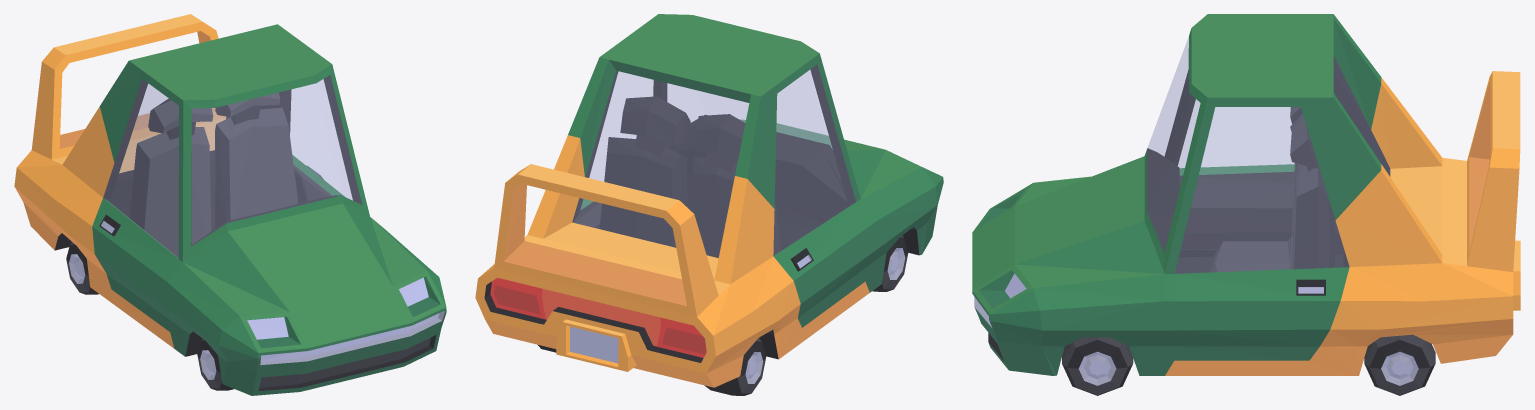
Rendered from playful-racer-delight.glb.
3 renders of one model, left to right at view 1: azimuth 30°, elevation 25°; view 2: azimuth 150°, elevation 25°; view 3: azimuth 270°, elevation 25°, orthographic. The views are drawn at different scales.
Visible parts, largest first — view 1: Car03_2_Racing, Car03_2_AdF.001, Car03_2_DR.001, Car03_2_AdB.001, Car03_2_DL.001, Car03_2_WhFR.001, Car03_2_WhBR.001; view 2: Car03_2_Racing, Car03_2_DR.001, Car03_2_AdB.001, Car03_2_DL.001, Car03_2_WhBR.001, Car03_2_WhFR.001, Car03_2_AdF.001; view 3: Car03_2_Racing, Car03_2_DL.001, Car03_2_DR.001, Car03_2_AdB.001, Car03_2_AdF.001, Car03_2_WhBL.001, Car03_2_WhFL.001.
Part boxes in pixels (x1,y1,x2,y2): Car03_2_Racing: (14, 24, 438, 383); Car03_2_AdF.001: (218, 270, 446, 395); Car03_2_DR.001: (92, 79, 178, 331); Car03_2_AdB.001: (31, 14, 225, 159); Car03_2_DL.001: (290, 80, 352, 200); Car03_2_WhFR.001: (197, 339, 233, 390); Car03_2_WhBR.001: (66, 242, 98, 294); Car03_2_Racing: (475, 14, 936, 387); Car03_2_DR.001: (773, 65, 874, 327); Car03_2_AdB.001: (494, 164, 718, 316); Car03_2_DL.001: (573, 72, 652, 228); Car03_2_WhBR.001: (704, 338, 766, 395); Car03_2_WhFR.001: (872, 235, 908, 291); Car03_2_AdF.001: (922, 167, 943, 253); Car03_2_Racing: (1015, 14, 1520, 375); Car03_2_DL.001: (1174, 107, 1349, 360); Car03_2_DR.001: (1178, 100, 1294, 248); Car03_2_AdB.001: (1467, 71, 1520, 271); Car03_2_AdF.001: (972, 183, 1053, 375); Car03_2_WhBL.001: (1364, 334, 1435, 395); Car03_2_WhFL.001: (1062, 337, 1133, 395).
Size of the model in its own units: 2.73 by 2.96 by 5.06.
Materials: 4 (4 with a texture image).
